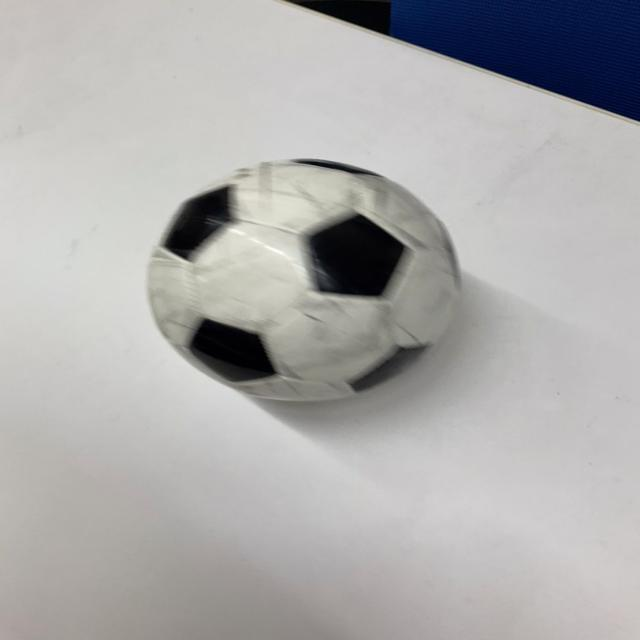ball: (149, 157, 462, 405)
